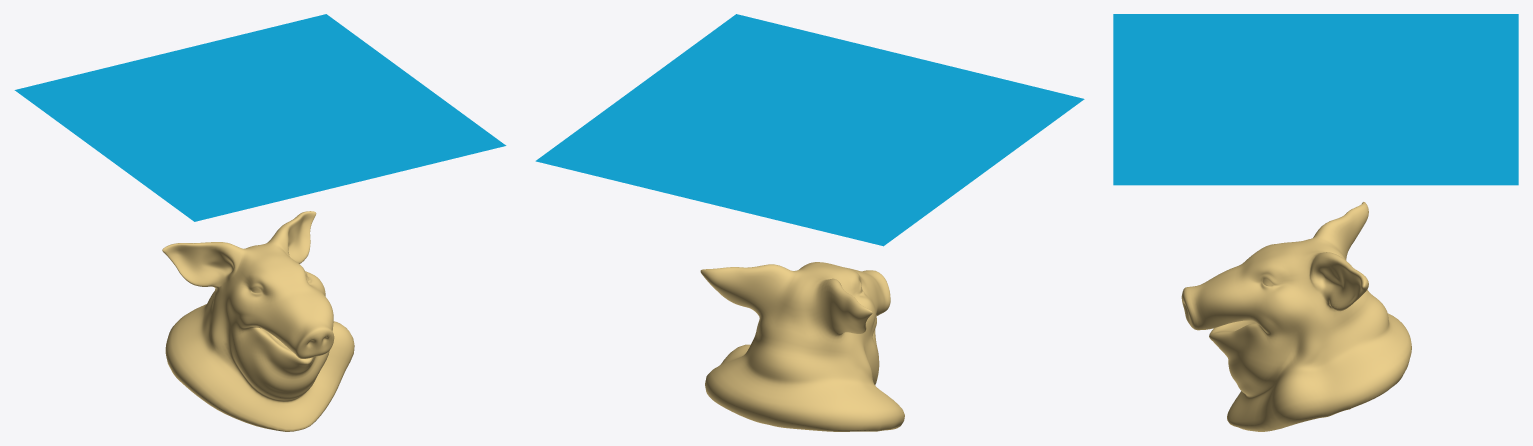
Rendered from cdn.glb.
3 renders of one model, left to right at view 1: azimuth 30°, elevation 25°; view 2: azimuth 150°, elevation 25°; view 3: azimuth 270°, elevation 25°, orthographic. The views are drawn at different scales.
Visible parts, largest first — view 1: cloth, pigHead; view 2: cloth, pigHead; view 3: cloth, pigHead.
Boxes of the visible parts, x1,y1,x2,y2 form: cloth: (14, 14, 506, 221); pigHead: (162, 211, 354, 431); cloth: (535, 14, 1084, 246); pigHead: (700, 262, 904, 431); cloth: (1113, 14, 1518, 185); pigHead: (1181, 202, 1411, 431).
Size of the model in its own units: 3.83 by 3.33 by 3.83.
